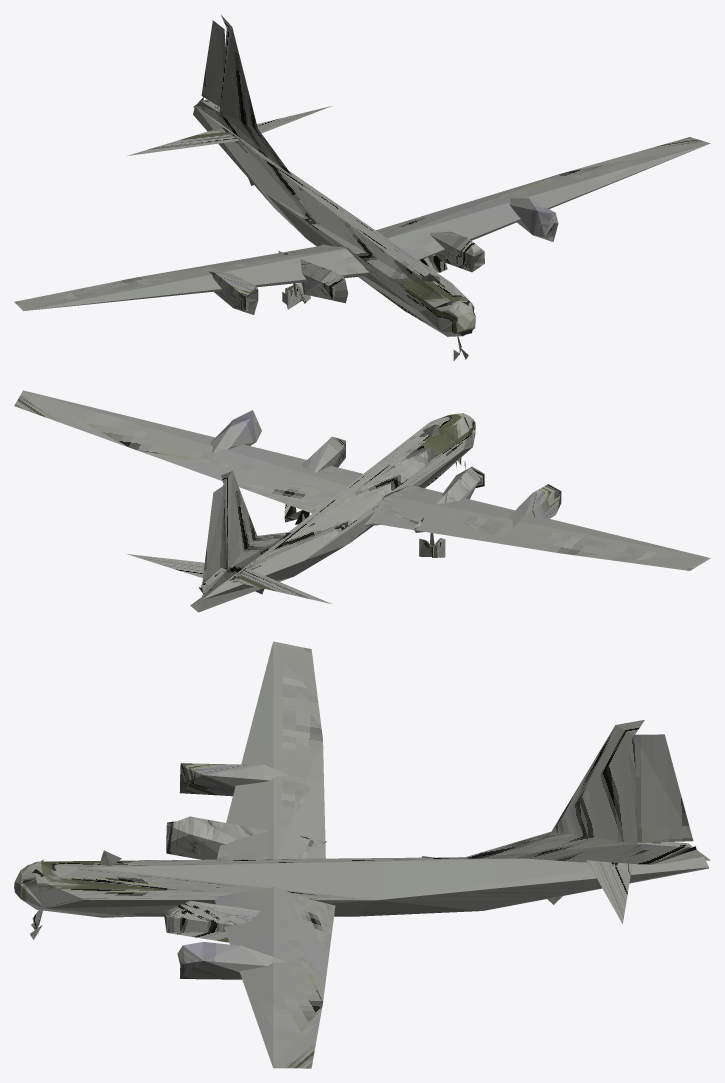
3 renders of one model, top to bottom at view 1: azimuth 30°, elevation 25°; view 2: azimuth 150°, elevation 25°; view 3: azimuth 270°, elevation 25°, orthographic. The views are drawn at different scales.
Parts seen in each view (by area): view 1: prop4_plane_0; view 2: prop4_plane_0; view 3: prop4_plane_0.
Part boxes in pixels (left/top/right/bottom): prop4_plane_0: left=14, top=15, right=710, bottom=360; prop4_plane_0: left=14, top=390, right=710, bottom=612; prop4_plane_0: left=14, top=641, right=710, bottom=1068.
Bounding box in the file's own units: 3.17 × 0.7549 × 2.19.
1 material, 1 textured.
